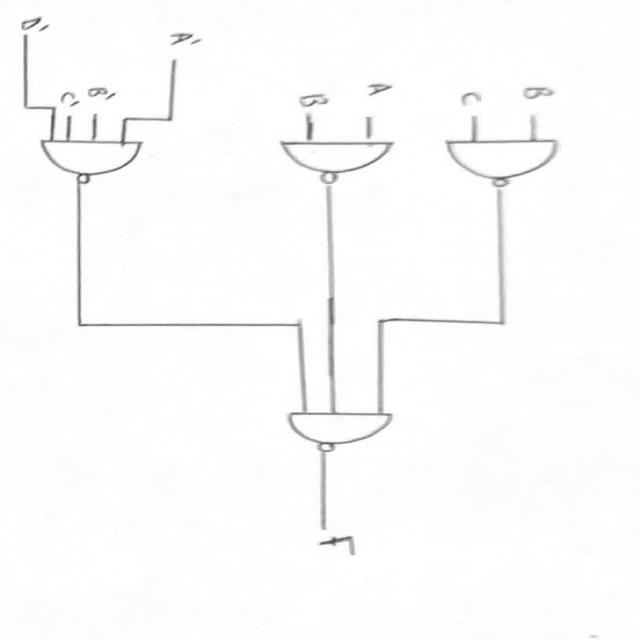NAND: (268, 392, 414, 461), (435, 128, 575, 196), (23, 131, 177, 191), (271, 134, 408, 190)
